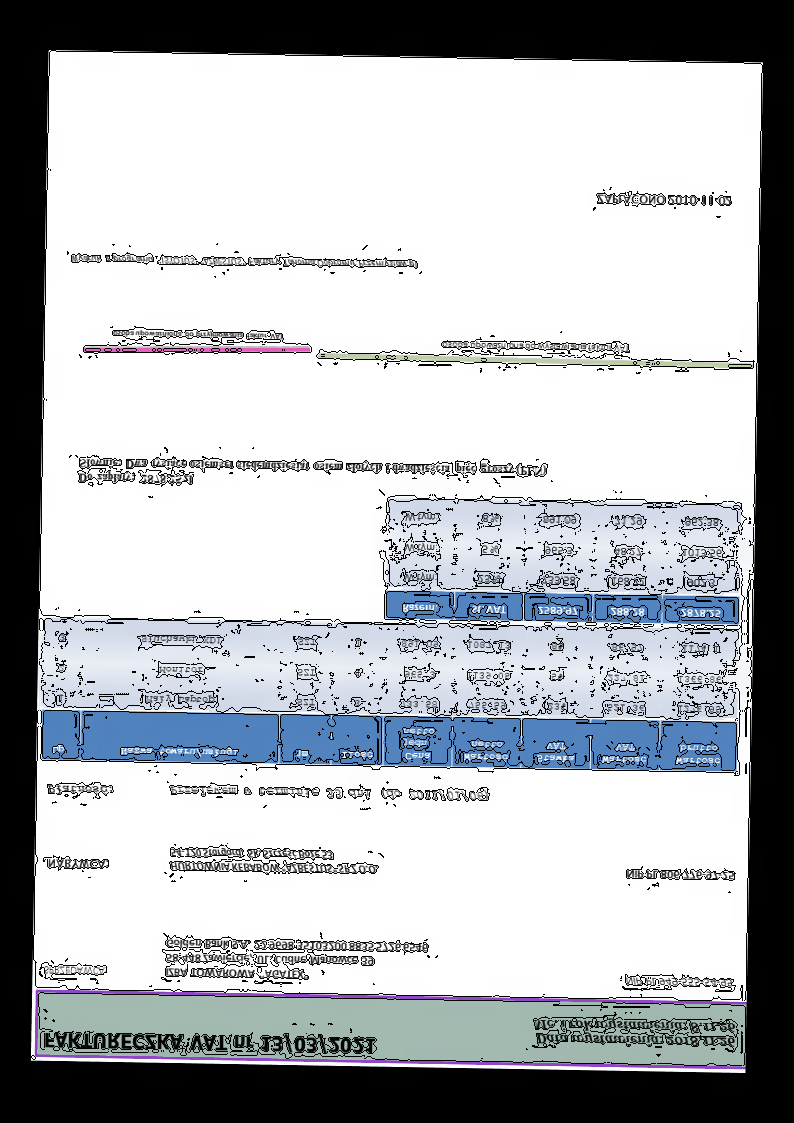Table: (40, 615, 741, 774), (384, 497, 742, 626)
TextBox: (76, 454, 549, 493), (163, 936, 430, 984), (41, 1027, 377, 1057), (69, 251, 419, 272), (529, 1015, 736, 1050), (169, 782, 491, 803), (168, 846, 380, 876), (439, 339, 630, 354), (110, 327, 284, 343), (594, 192, 732, 210), (624, 867, 735, 882), (624, 975, 734, 989), (45, 782, 115, 798), (42, 963, 108, 979), (45, 856, 109, 872)
